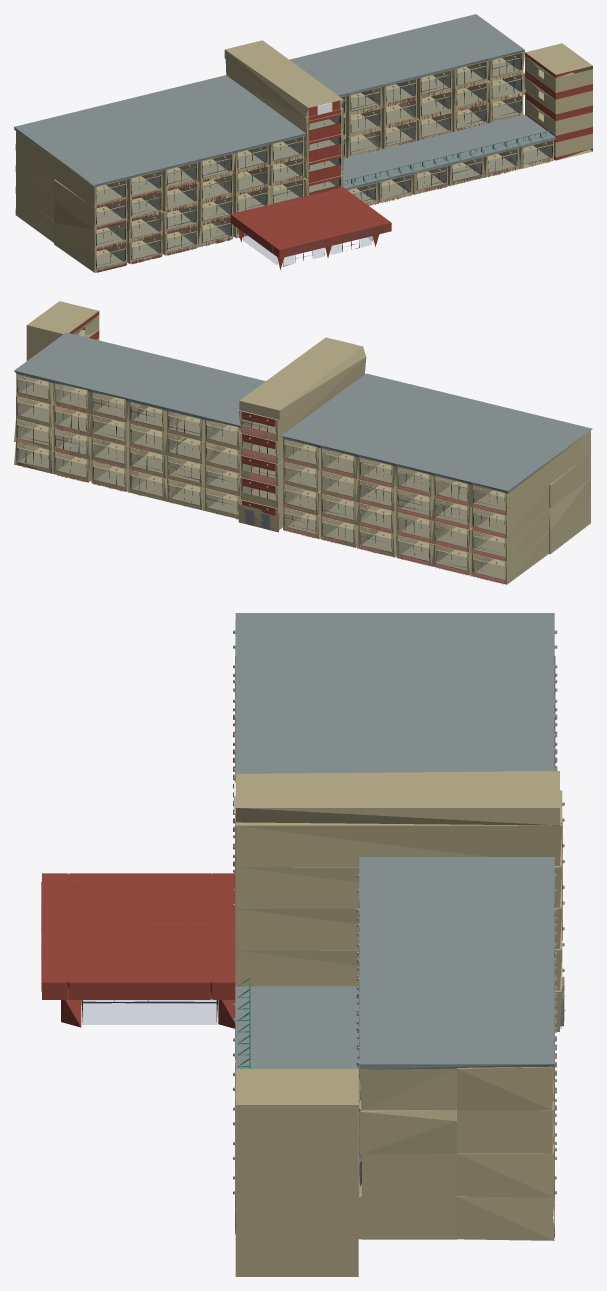
File: school.glb
The picture shows the model from 3 angles, top to bottom: view 1: azimuth 30°, elevation 25°; view 2: azimuth 150°, elevation 25°; view 3: azimuth 270°, elevation 25°; orthographic projection. The views are drawn at different scales.
Visible parts, largest first — view 1: Object_129; view 2: Object_129; view 3: Object_129.
Part boxes in pixels (left/top/right/bottom): Object_129: left=14, top=14, right=592, bottom=272; Object_129: left=14, top=301, right=592, bottom=584; Object_129: left=41, top=613, right=565, bottom=1276.
Bounding box in the file's own units: 55 × 12 × 25.
3 materials, 3 textured.
